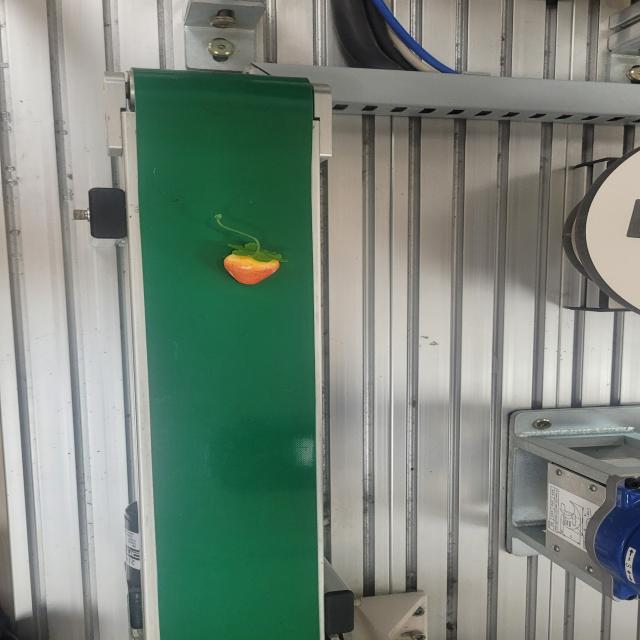Small Unripe Strawberry: (210, 212, 287, 286)
